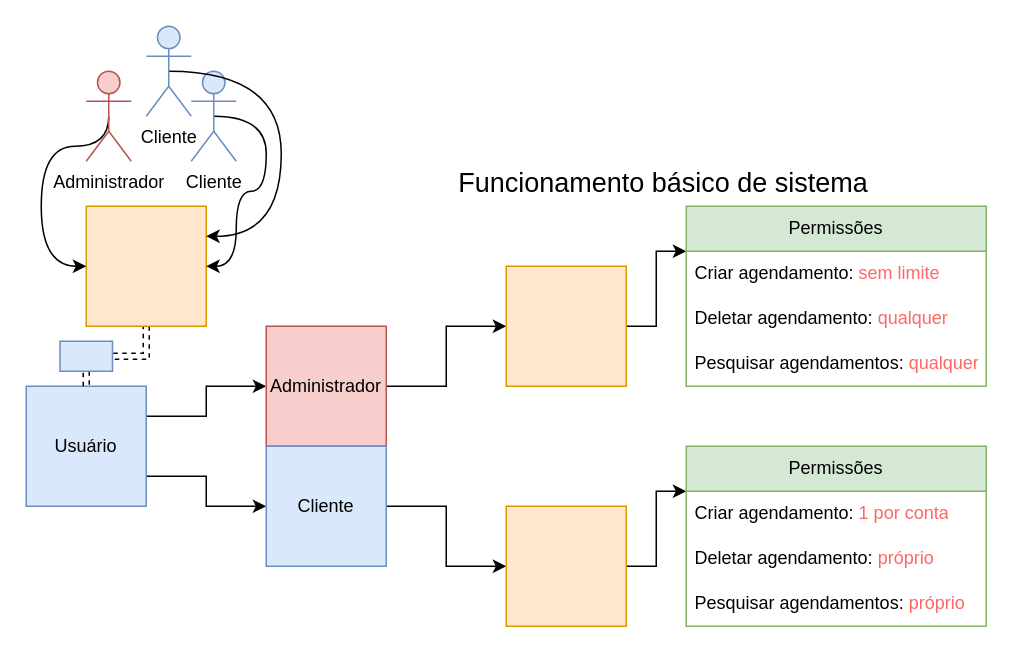
Image size: 1013x653. Some labels were removed from this diagram. The shapes that lost their labels are listed below. From the top down, each one's centre as x and y in pixels, then its label:
At (x=145, y=265): "Homepage".
At (x=565, y=325): "Plataforma de gerenciamento".
At (x=85, y=355): "Login".
At (x=565, y=565): "Plataforma cliente".
